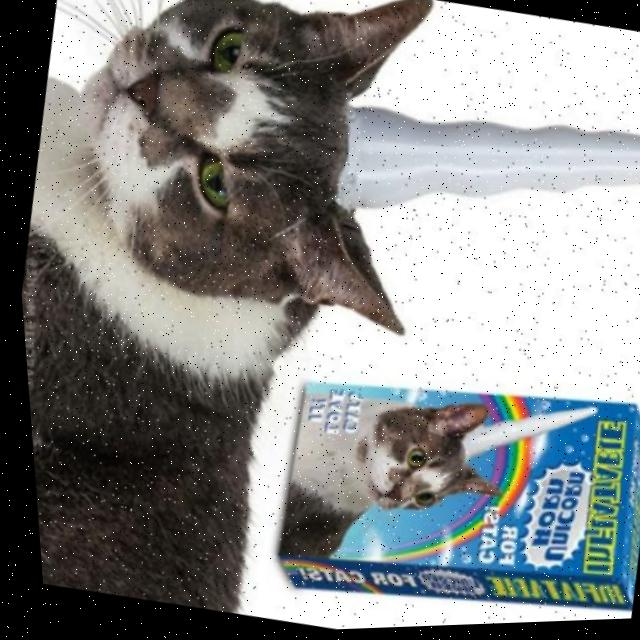Cats: (0, 0, 526, 640), (249, 370, 520, 598)
